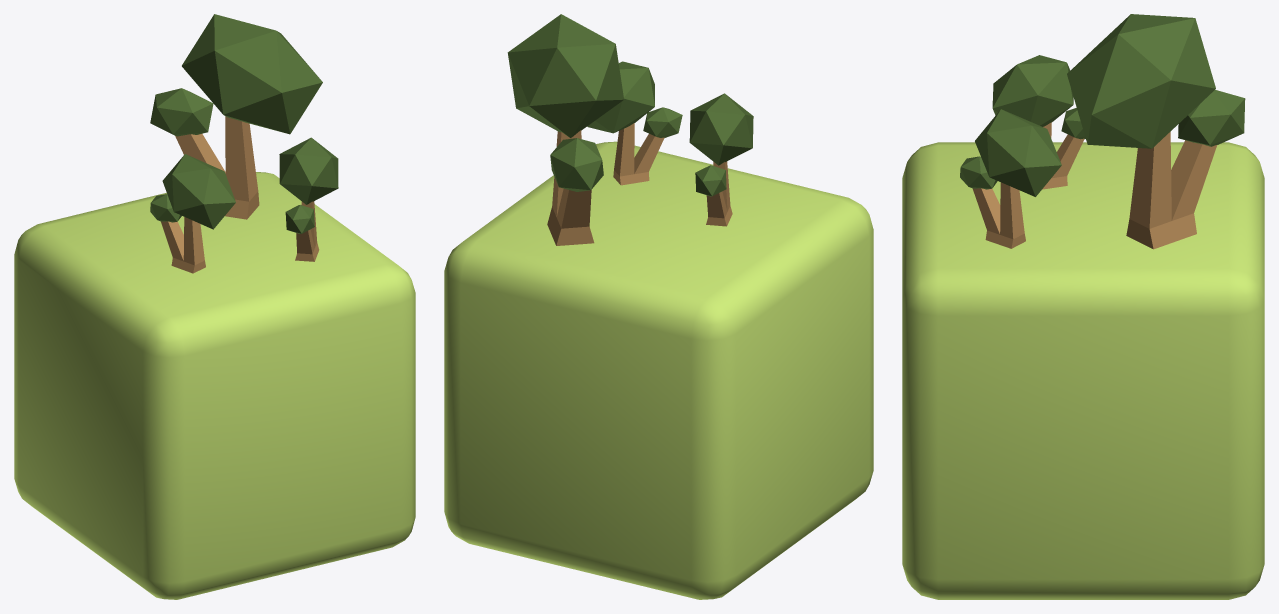
File: forest2.fbx
3 renders of one model, left to right at view 1: azimuth 30°, elevation 25°; view 2: azimuth 150°, elevation 25°; view 3: azimuth 270°, elevation 25°, orthographic. The views are drawn at different scales.
Parts seen in each view (by area): view 1: Cube.019, Icosphere.051, Cube.085, Icosphere.052, Icosphere.055, Icosphere.050, Cube.086, Cube.087, Icosphere.054, Icosphere.053; view 2: Cube.019, Icosphere.051, Icosphere.052, Cube.085, Icosphere.055, Icosphere.050, Cube.087, Cube.086, Icosphere.054, Icosphere.053; view 3: Cube.019, Icosphere.051, Cube.085, Icosphere.055, Icosphere.052, Icosphere.050, Cube.087, Cube.086, Icosphere.054, Icosphere.053.
Boxes of the visible parts, x1=… form: Cube.019: x1=14, y1=172, x2=415, y2=599; Icosphere.051: x1=182, y1=14, x2=322, y2=134; Cube.085: x1=175, y1=116, x2=259, y2=219; Icosphere.052: x1=162, y1=154, x2=235, y2=229; Icosphere.055: x1=279, y1=137, x2=338, y2=204; Icosphere.050: x1=150, y1=88, x2=213, y2=136; Cube.086: x1=161, y1=217, x2=205, y2=273; Cube.087: x1=295, y1=201, x2=319, y2=261; Icosphere.054: x1=285, y1=205, x2=314, y2=233; Icosphere.053: x1=150, y1=194, x2=181, y2=222; Cube.019: x1=444, y1=141, x2=873, y2=599; Icosphere.051: x1=507, y1=14, x2=623, y2=138; Icosphere.052: x1=689, y1=93, x2=753, y2=165; Cube.085: x1=547, y1=130, x2=594, y2=245; Icosphere.055: x1=587, y1=61, x2=654, y2=133; Icosphere.050: x1=550, y1=138, x2=603, y2=191; Cube.087: x1=613, y1=123, x2=664, y2=185; Cube.086: x1=706, y1=161, x2=732, y2=226; Icosphere.054: x1=643, y1=107, x2=682, y2=137; Icosphere.053: x1=695, y1=165, x2=726, y2=196; Cube.019: x1=902, y1=142, x2=1264, y2=599; Icosphere.051: x1=1067, y1=14, x2=1215, y2=148; Cube.085: x1=1126, y1=132, x2=1217, y2=249; Icosphere.055: x1=975, y1=109, x2=1061, y2=196; Icosphere.052: x1=992, y1=55, x2=1073, y2=126; Icosphere.050: x1=1178, y1=90, x2=1245, y2=146; Cube.087: x1=972, y1=182, x2=1025, y2=248; Cube.086: x1=1042, y1=122, x2=1084, y2=189; Icosphere.054: x1=960, y1=156, x2=997, y2=189; Icosphere.053: x1=1061, y1=108, x2=1085, y2=139.
Bounding box in the file's own units: 200 × 332 × 200.
